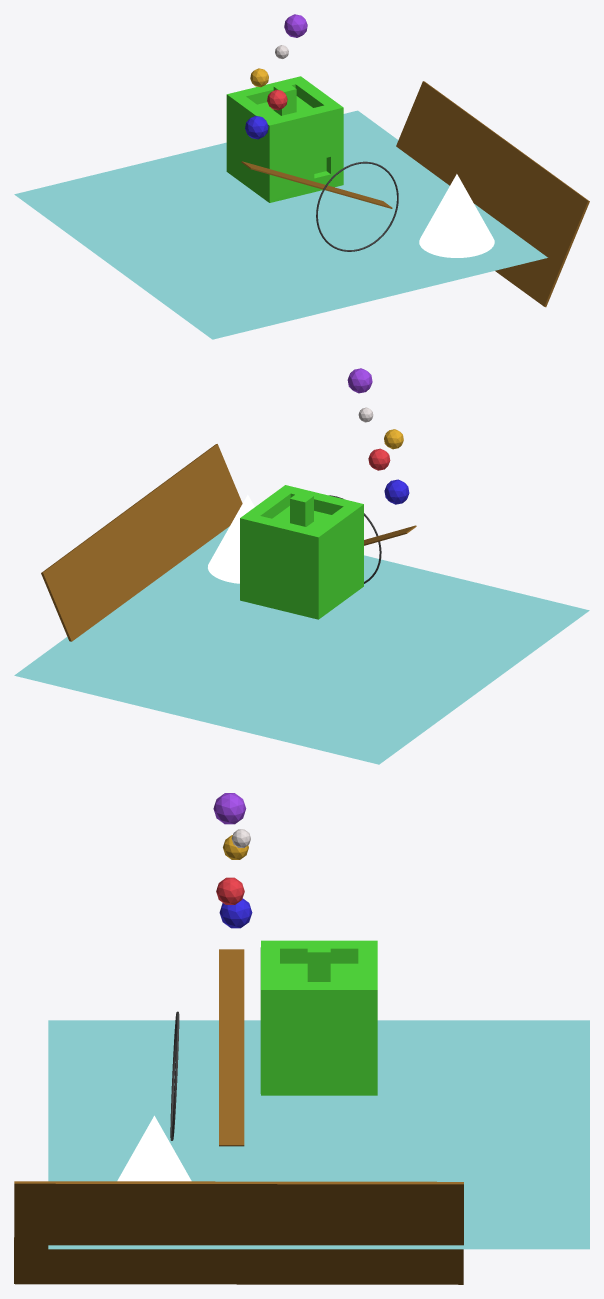
The picture shows the model from 3 angles, top to bottom: view 1: azimuth 30°, elevation 25°; view 2: azimuth 150°, elevation 25°; view 3: azimuth 270°, elevation 25°; orthographic projection. The views are drawn at different scales.
Visible parts, largest first — view 1: Plane, Cube.002, Cube, Cone, Cube.001, Torus, Icosphere, Icosphere.004; view 2: Plane, Cube.002, Cube, Cone; view 3: Plane, Cube.002, Cube, Cube.001, Cone, Icosphere.004, Icosphere, Torus, Icosphere.001.
Part boxes in pixels (bbox=[...]): Plane: bbox=[14, 110, 547, 339]; Cube.002: bbox=[396, 81, 589, 307]; Cube: bbox=[226, 76, 343, 202]; Cone: bbox=[419, 174, 494, 257]; Cube.001: bbox=[241, 161, 392, 208]; Torus: bbox=[316, 161, 398, 251]; Icosphere: bbox=[245, 115, 268, 139]; Icosphere.004: bbox=[284, 14, 307, 37]; Plane: bbox=[14, 526, 589, 764]; Cube.002: bbox=[41, 444, 242, 641]; Cube: bbox=[240, 485, 363, 619]; Cone: bbox=[208, 495, 254, 583]; Plane: bbox=[48, 1020, 589, 1249]; Cube.002: bbox=[14, 1181, 463, 1284]; Cube: bbox=[260, 940, 377, 1095]; Cube.001: bbox=[219, 949, 244, 1146]; Cone: bbox=[117, 1115, 191, 1181]; Icosphere.004: bbox=[213, 793, 246, 824]; Icosphere: bbox=[219, 898, 252, 928]; Torus: bbox=[170, 1011, 179, 1140]; Icosphere.001: bbox=[216, 877, 244, 904].
Bounding box in the file's own units: 9.85 × 7.13 × 9.87.
